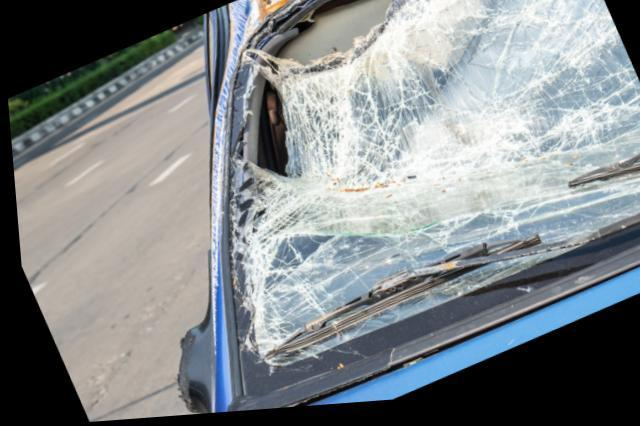glass shatter: (225, 0, 640, 399)
scratch: (206, 0, 307, 359)
